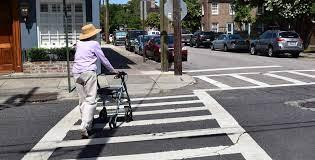walking_frame: (72, 24, 133, 139)
